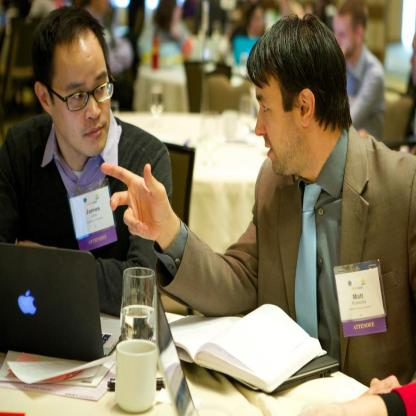board: (0, 244, 122, 362), (235, 354, 339, 392)
